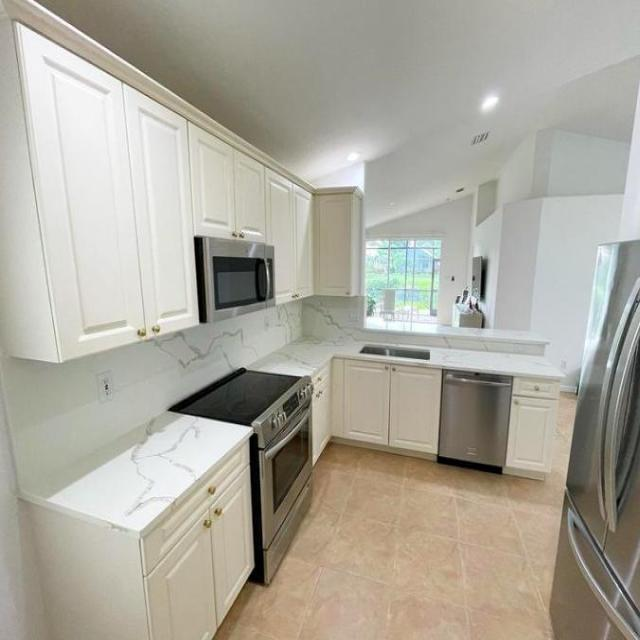dishwasher: (438, 367, 512, 470)
